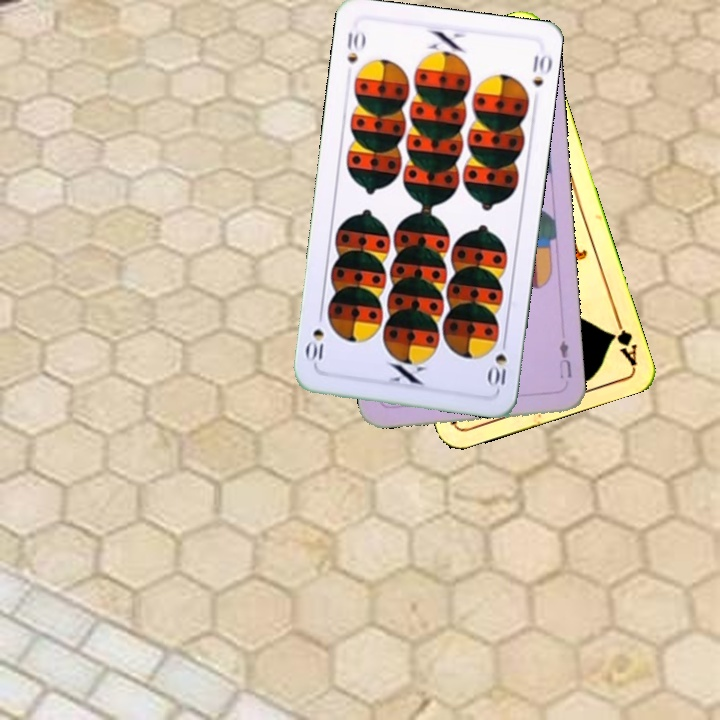EU: (554, 336, 574, 381)
GA: (606, 309, 640, 367)
S10: (484, 333, 509, 392), (343, 28, 368, 68)
